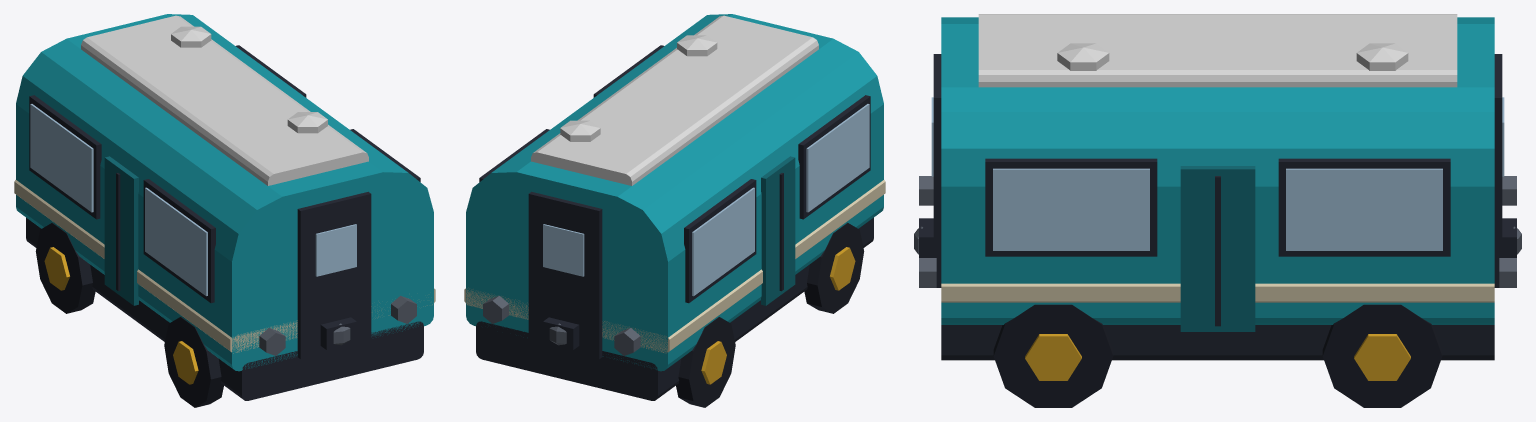
Rendered from train_car_cyan.glb.
The picture shows the model from 3 angles, left to right: view 1: azimuth 30°, elevation 25°; view 2: azimuth 150°, elevation 25°; view 3: azimuth 270°, elevation 25°; orthographic projection. The views are drawn at different scales.
Parts seen in each view (by area): view 1: train_car_cyan; view 2: train_car_cyan; view 3: train_car_cyan.
Boxes of the visible parts, box(x1,y1,x2,y2) form: train_car_cyan: box(14, 14, 435, 407); train_car_cyan: box(464, 14, 885, 407); train_car_cyan: box(914, 14, 1521, 407).
Bounding box in the file's own units: 2.13 × 2.33 × 4.06.
